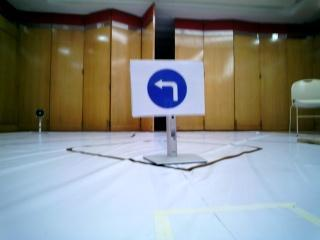left: (133, 60, 202, 113)
